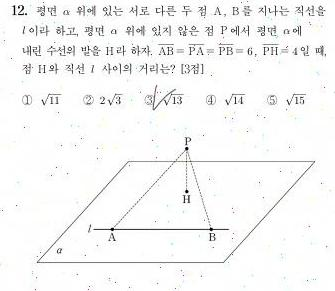choice: (141, 90, 160, 111)
not-choice: (20, 93, 33, 107), (203, 93, 217, 106), (81, 93, 94, 106), (265, 93, 278, 106)
